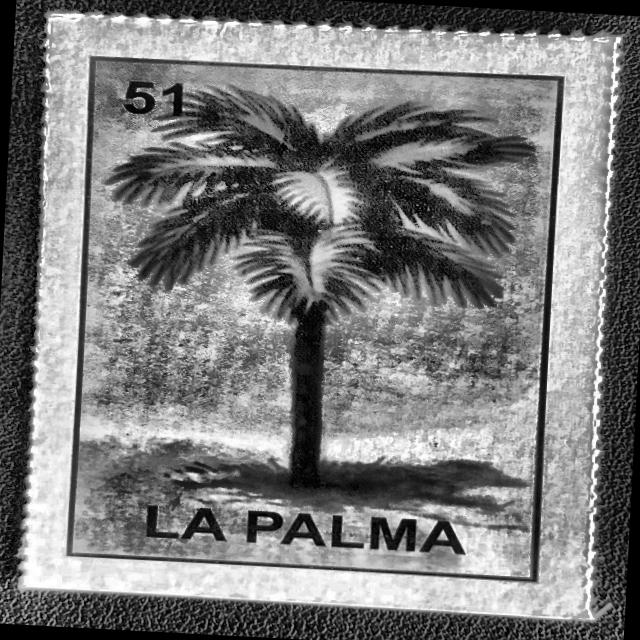La Palma: (39, 24, 598, 601)
